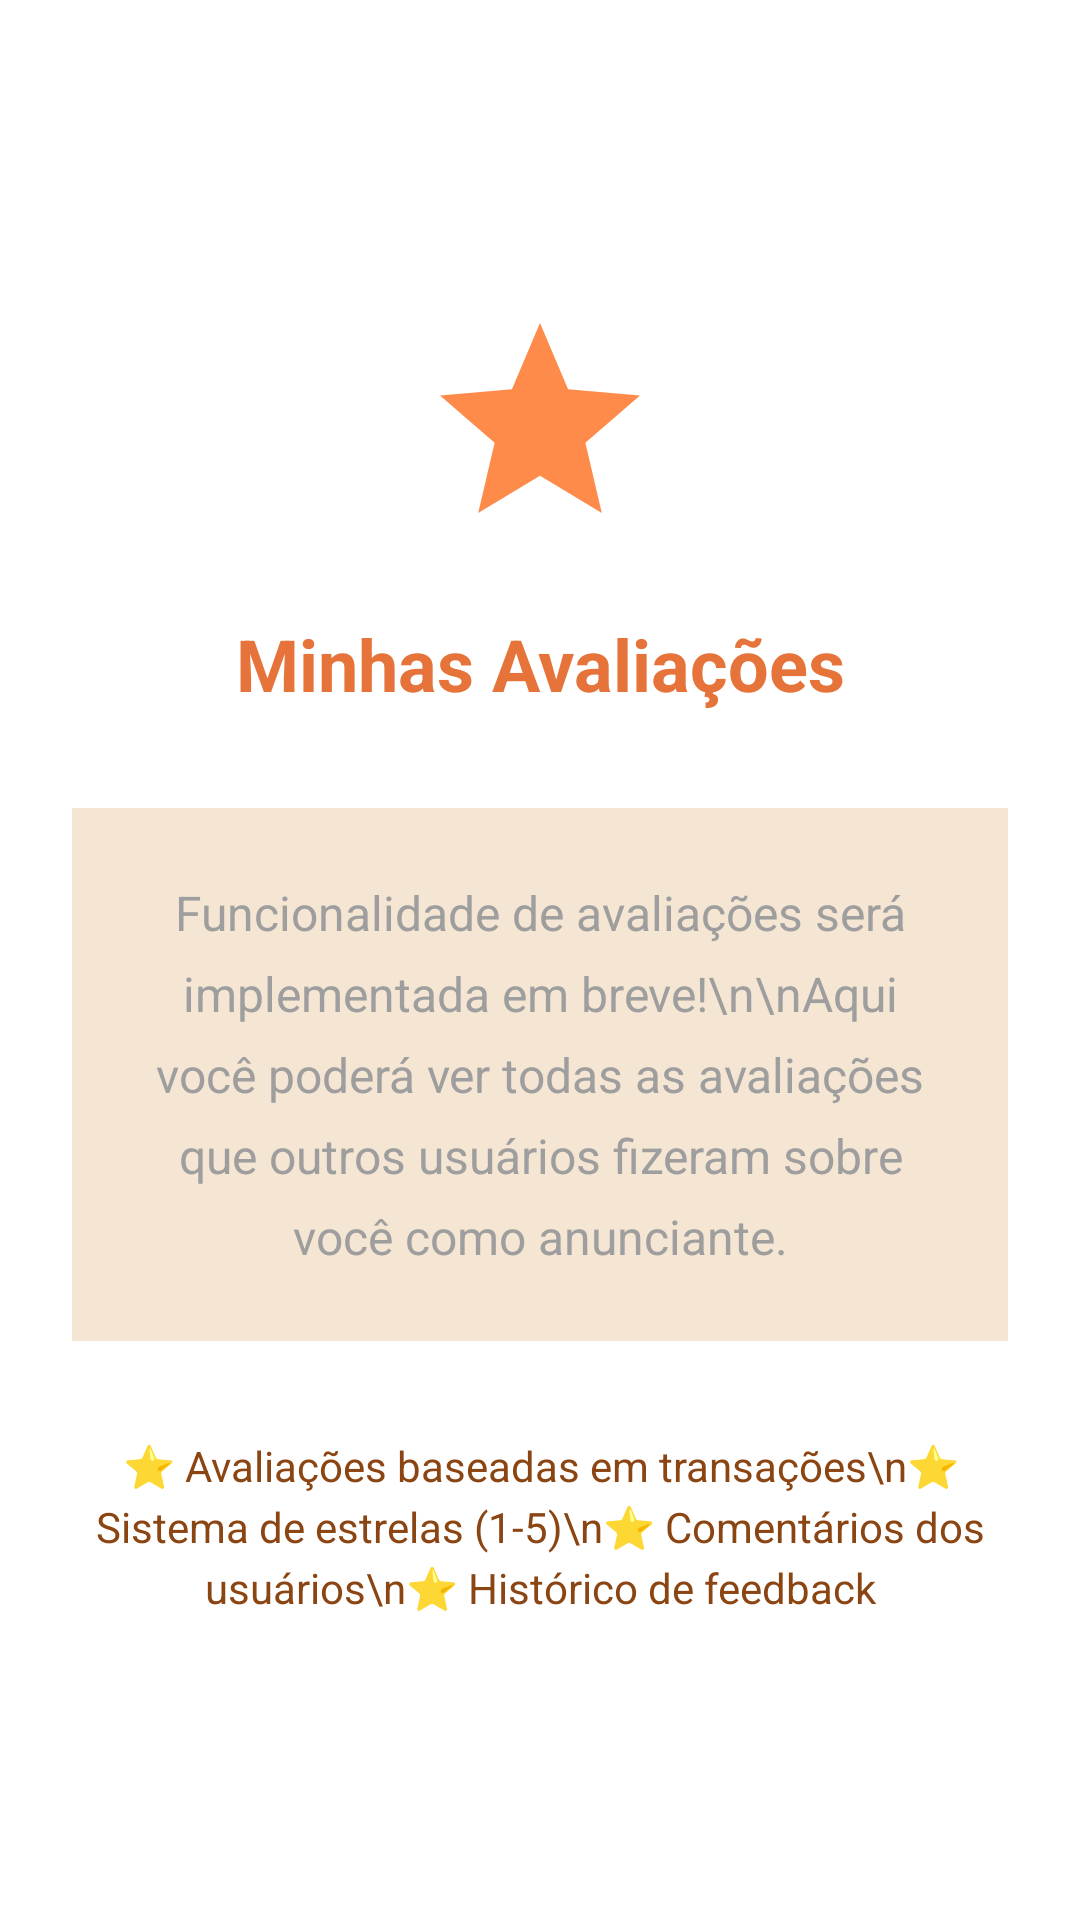

Icon bounding boxes for this 1080x1920 phone screenshot, format (x1, y1, x2, y2):
Ícone de avaliação: (440, 323, 640, 513)
